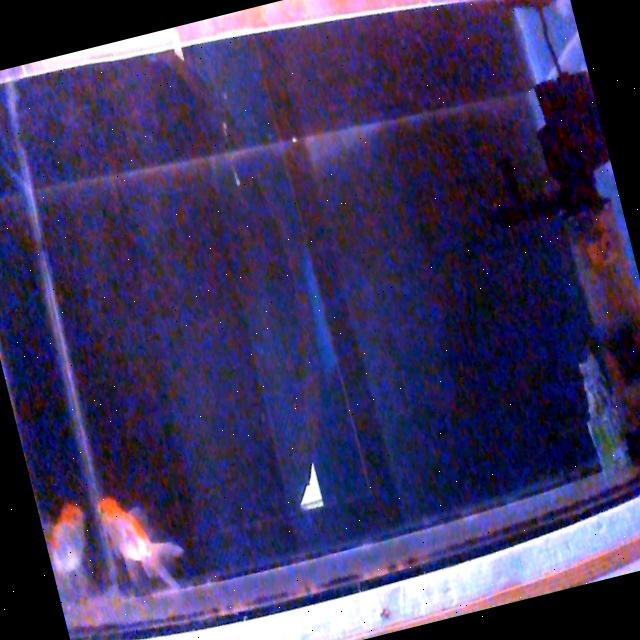fish: (94, 478, 192, 602), (38, 496, 104, 602)
